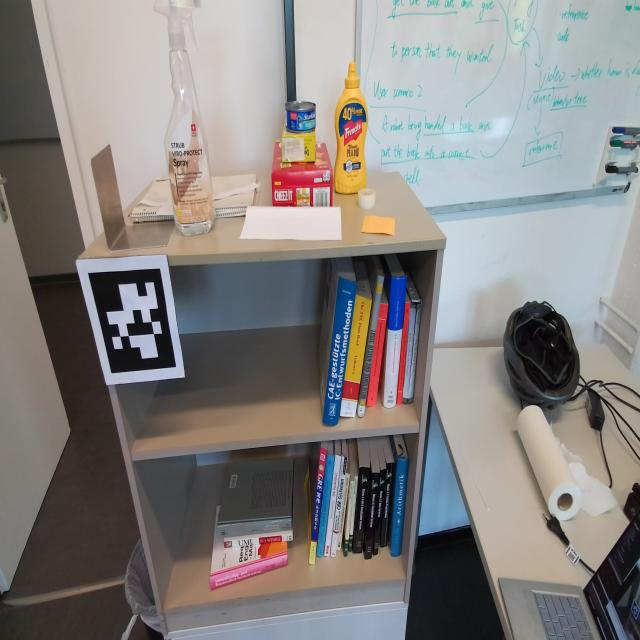Book Spine: (323, 276, 358, 426), (340, 295, 372, 418), (358, 275, 384, 417), (383, 276, 407, 408), (210, 554, 288, 591), (367, 303, 388, 407), (309, 447, 327, 565), (390, 456, 409, 557), (316, 452, 334, 557), (324, 454, 342, 557), (330, 455, 348, 558), (353, 467, 370, 554), (217, 519, 292, 537), (397, 302, 410, 405), (408, 303, 421, 403), (365, 473, 380, 559), (403, 304, 416, 403), (380, 463, 395, 547), (373, 469, 386, 555), (337, 473, 350, 551), (224, 534, 293, 548), (344, 481, 355, 557), (348, 476, 358, 552)
